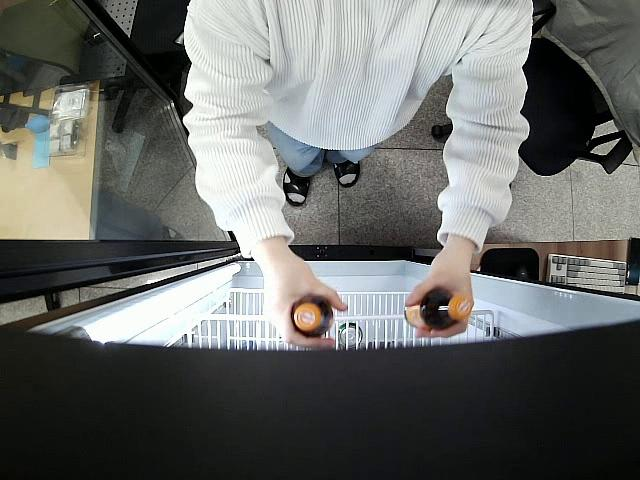00_hand: (263, 268, 348, 349), (405, 272, 472, 339)
17_vita500: (404, 289, 474, 331), (290, 292, 334, 339)
